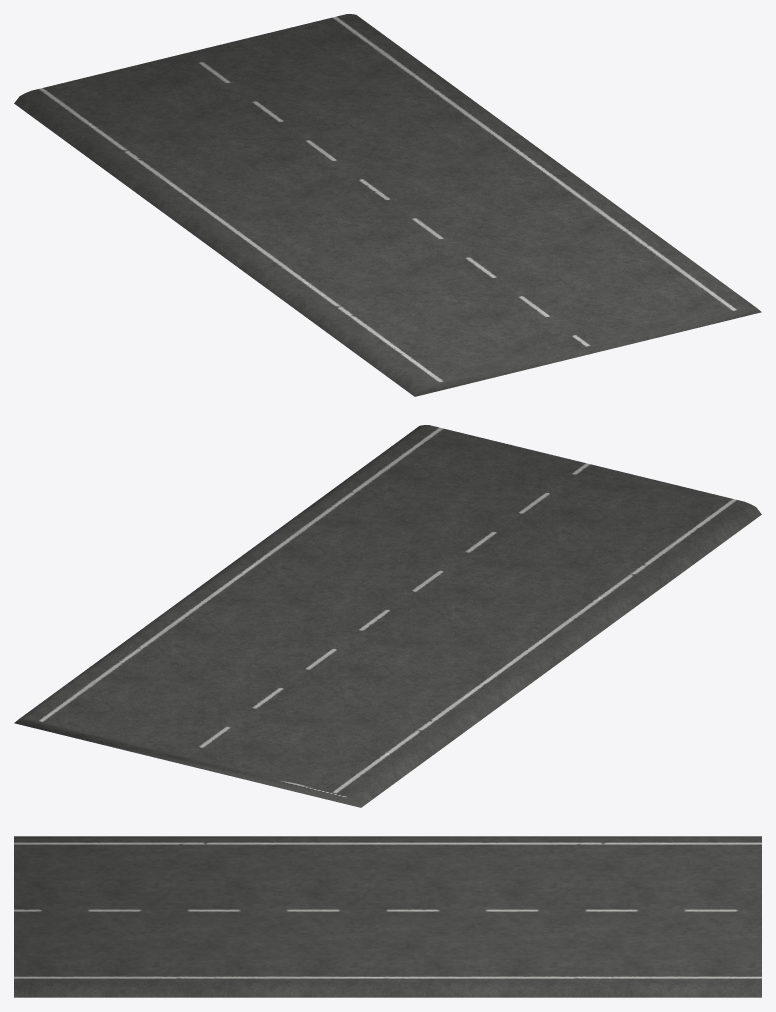
Rendered from Road.fbx.
3 views of the same model, one above another, from view 1: azimuth 30°, elevation 25°; view 2: azimuth 150°, elevation 25°; view 3: azimuth 270°, elevation 25° (orthographic). The views are drawn at different scales.
Parts seen in each view (by area): view 1: Grid; view 2: Grid; view 3: Grid.
Part boxes in pixels (x1,y1,x2,y2): Grid: (14, 14, 761, 396); Grid: (14, 425, 761, 807); Grid: (14, 836, 761, 997).
Bounding box in the file's own units: 200 × 4.72 × 400.
